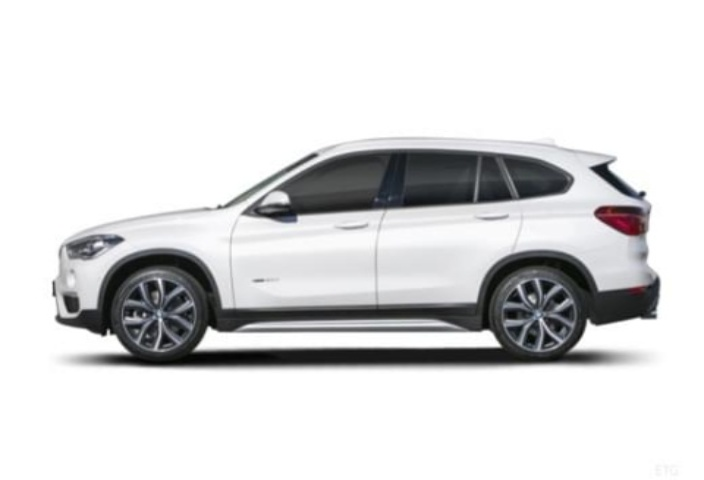camper: (33, 125, 676, 371)
